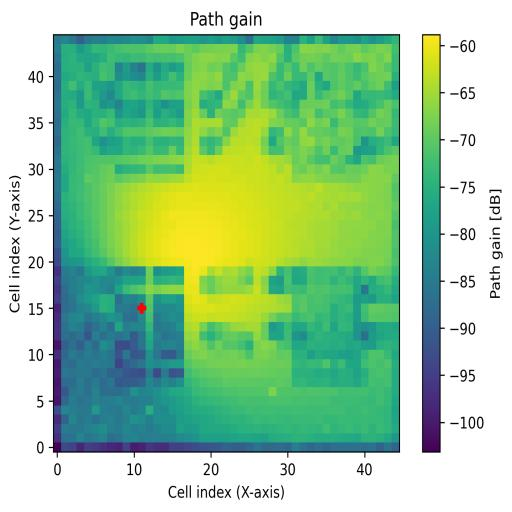Concrete: (292, 61, 362, 183)
Glass: (115, 62, 185, 174)
Metal: (292, 266, 362, 388)
Wood: (115, 267, 184, 387)
